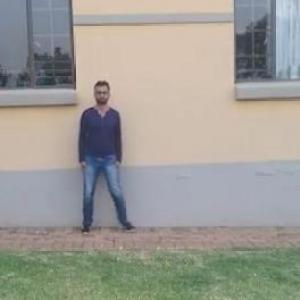follow: (76, 78, 123, 235)
